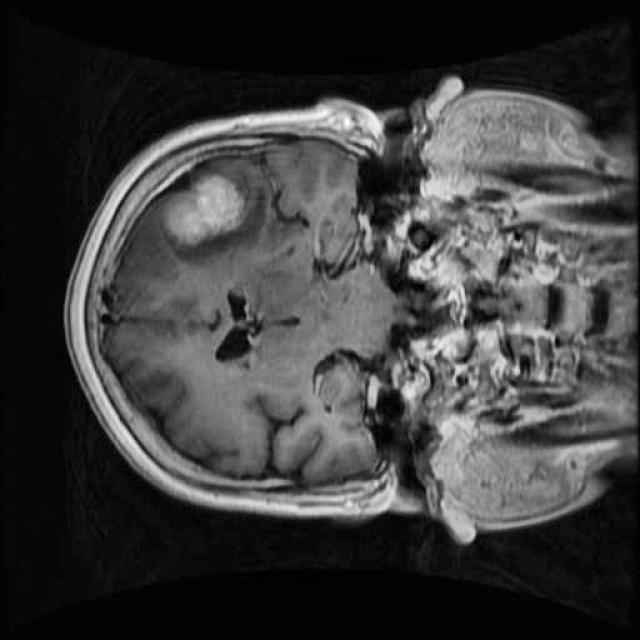Tumor: (154, 164, 258, 258)
